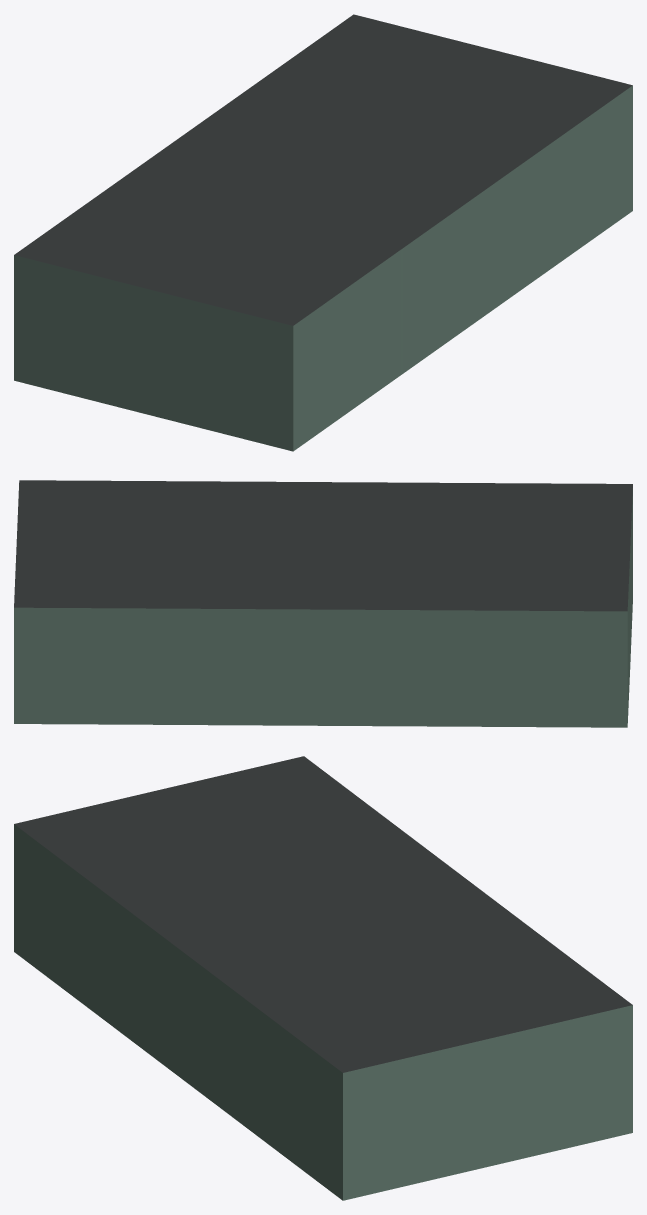
File: nyc-1015263-0.glb
The picture shows the model from 3 angles, top to bottom: view 1: azimuth 30°, elevation 25°; view 2: azimuth 150°, elevation 25°; view 3: azimuth 270°, elevation 25°; orthographic projection. The views are drawn at different scales.
Parts seen in each view (by area): view 1: nyc-1015263-0; view 2: nyc-1015263-0; view 3: nyc-1015263-0.
Boxes of the visible parts, bbox=[...] form: nyc-1015263-0: bbox=[14, 14, 632, 451]; nyc-1015263-0: bbox=[14, 480, 632, 727]; nyc-1015263-0: bbox=[14, 756, 632, 1200].
Bounding box in the file's own units: 67.4 × 12.68 × 55.64.
